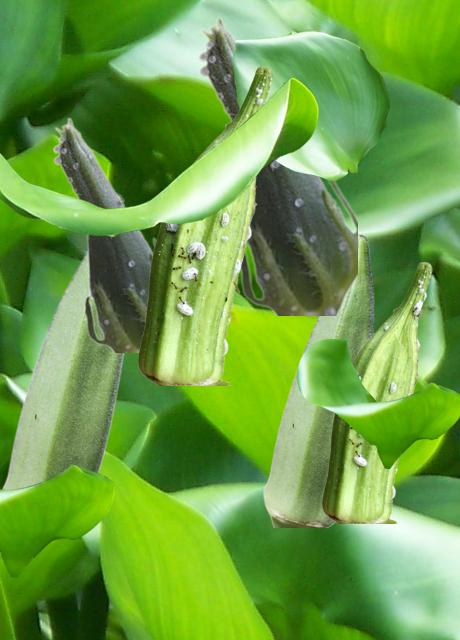okra: (197, 16, 356, 314), (138, 66, 272, 384), (1, 192, 126, 488), (263, 234, 373, 526), (322, 262, 431, 522), (52, 117, 155, 351)
